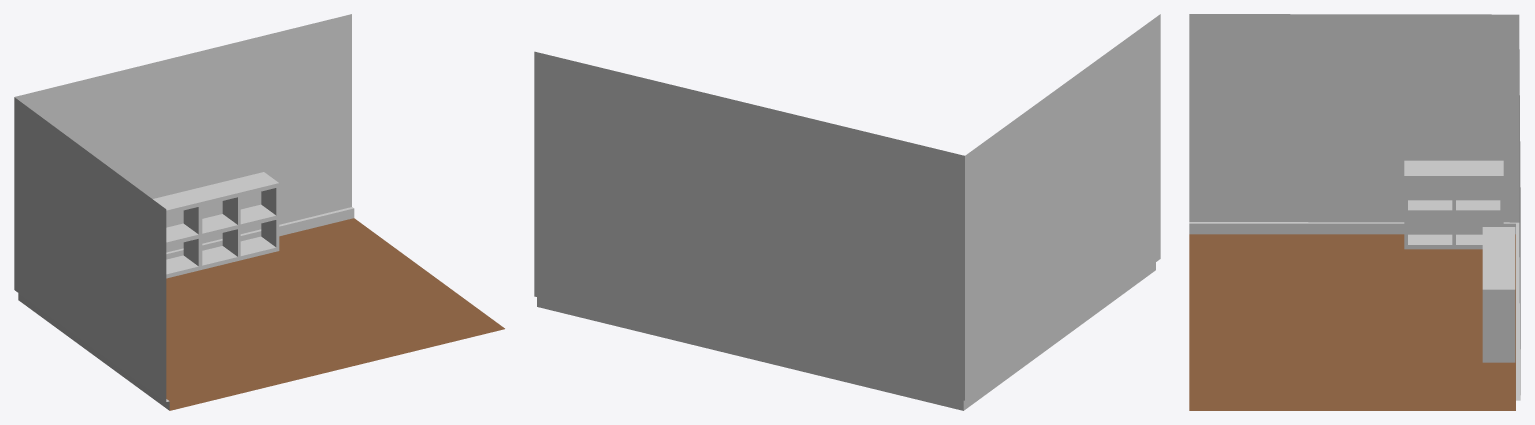
Rendered from Bureau_AT0.fbx.
The picture shows the model from 3 angles, left to right: view 1: azimuth 30°, elevation 25°; view 2: azimuth 150°, elevation 25°; view 3: azimuth 270°, elevation 25°; orthographic projection. The views are drawn at different scales.
Visible parts, largest first — view 1: Bureau_At0; view 2: Bureau_At0; view 3: Bureau_At0.
Boxes of the visible parts, x1,y1,x2,y2 form: Bureau_At0: (14, 14, 504, 410); Bureau_At0: (534, 14, 1160, 410); Bureau_At0: (1189, 14, 1520, 410).
Bounding box in the file's own units: 357 × 203 × 279.
